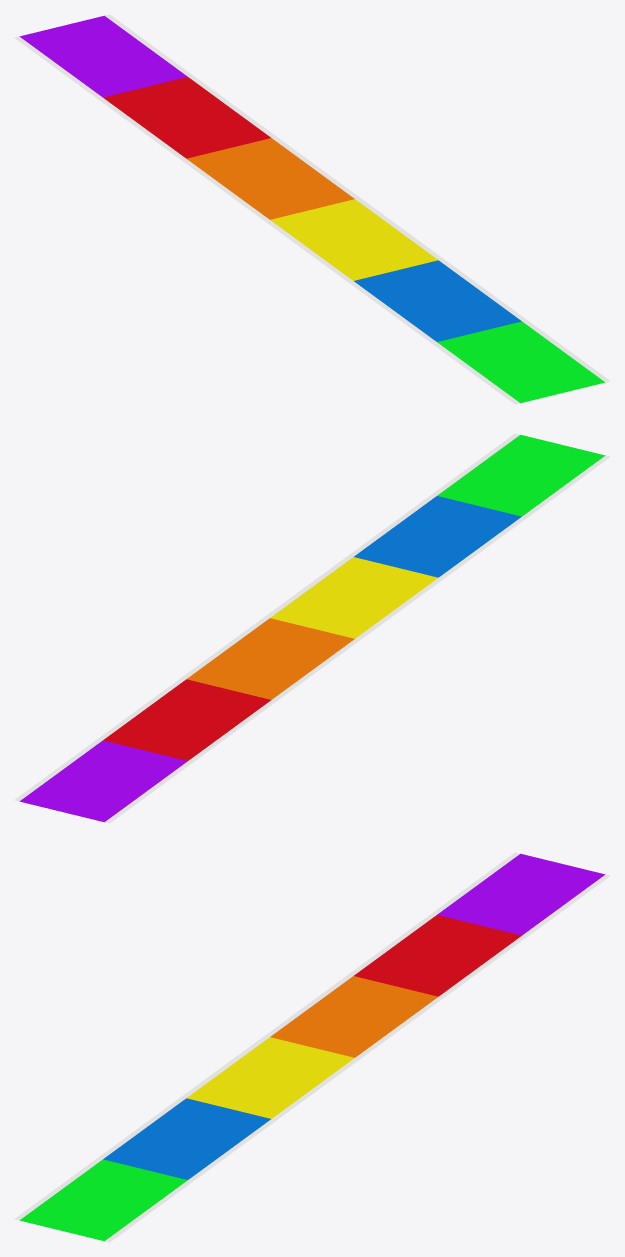
The model's file is ending1_alternative.fbx.
The picture shows the model from 3 angles, top to bottom: view 1: azimuth 30°, elevation 25°; view 2: azimuth 150°, elevation 25°; view 3: azimuth 330°, elevation 25°; orthographic projection.
Parts seen in each view (by area): view 1: Ending_way alternative; view 2: Ending_way alternative; view 3: Ending_way alternative.
Boxes of the visible parts, x1,y1,x2,y2 form: Ending_way alternative: [14, 14, 610, 404]; Ending_way alternative: [14, 433, 610, 823]; Ending_way alternative: [14, 852, 610, 1242].
Bounding box in the file's own units: 14.33 × 130 × 1.55e-05.
